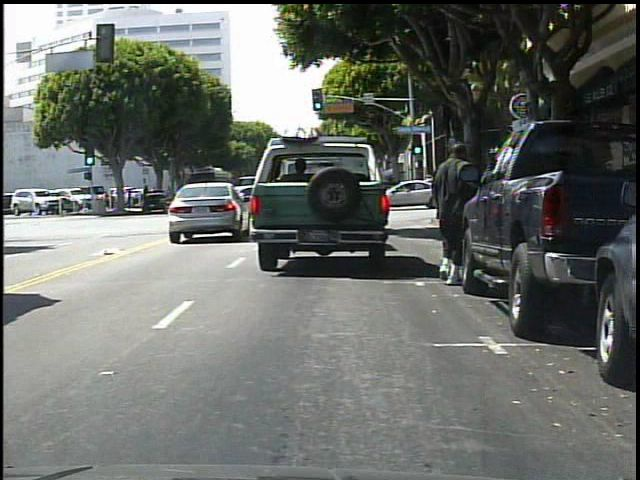person: (430, 144, 476, 281)
